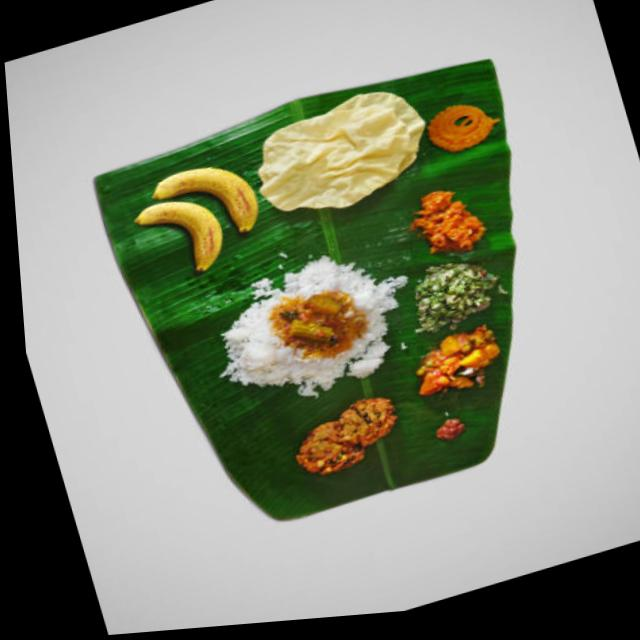BANANA: (134, 158, 262, 271)
CURRY: (406, 325, 503, 396)
PAPADAM: (250, 85, 423, 213)
PICKLE: (437, 413, 465, 438)
RICE: (219, 257, 403, 401)
SWEET: (424, 99, 497, 152)
VADA: (294, 393, 402, 472)
VEGGIES: (418, 260, 496, 333), (412, 184, 483, 254)
